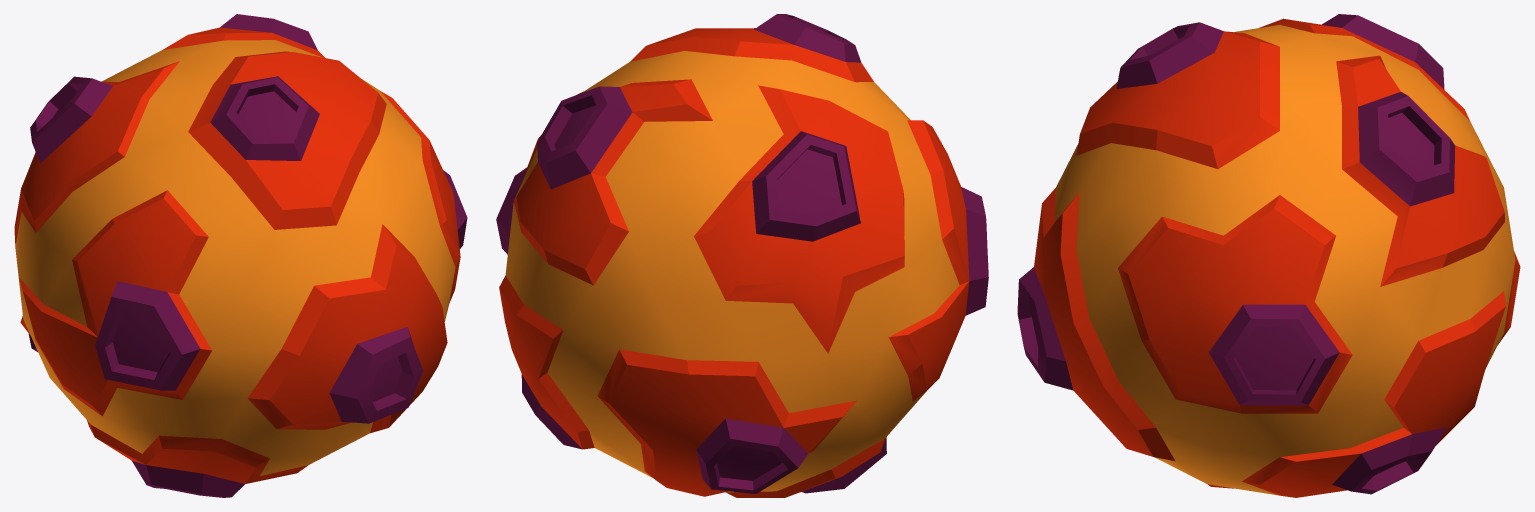
The model's file is fire_planet_1.fbx.
3 views of the same model, side by side, from view 1: azimuth 30°, elevation 25°; view 2: azimuth 150°, elevation 25°; view 3: azimuth 270°, elevation 25° (orthographic). The views are drawn at different scales.
Parts seen in each view (by area): view 1: Icosphere.004; view 2: Icosphere.004; view 3: Icosphere.004.
Boxes of the visible parts, x1,y1,x2,y2 form: Icosphere.004: (14, 14, 467, 497); Icosphere.004: (496, 14, 988, 497); Icosphere.004: (1017, 14, 1520, 497).
Bounding box in the file's own units: 214 × 210 × 214.
